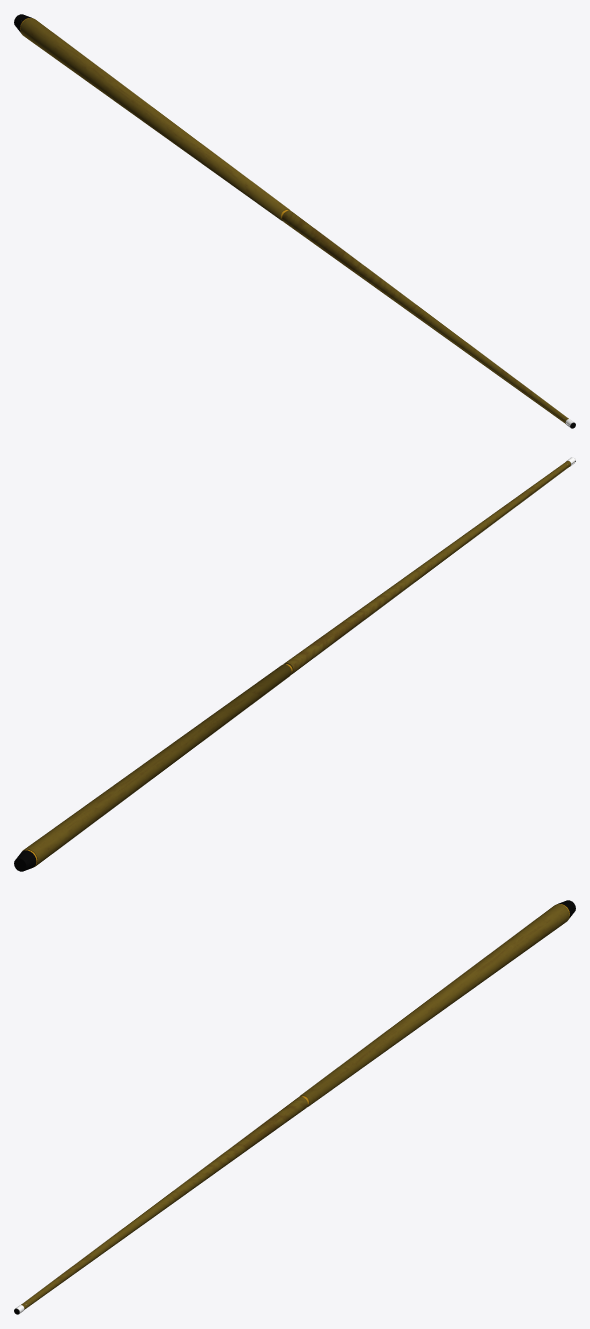
Rendered from poolcue.glb.
3 renders of one model, top to bottom at view 1: azimuth 30°, elevation 25°; view 2: azimuth 150°, elevation 25°; view 3: azimuth 330°, elevation 25°, orthographic.
Parts seen in each view (by area): view 1: PoolCue; view 2: PoolCue; view 3: PoolCue.
Part boxes in pixels (x1,y1,x2,y2): PoolCue: (14, 14, 575, 428); PoolCue: (14, 457, 575, 871); PoolCue: (14, 900, 575, 1314).
Size of the model in its own units: 0.0278 by 0.0278 by 1.5.
1 material, 1 textured.
